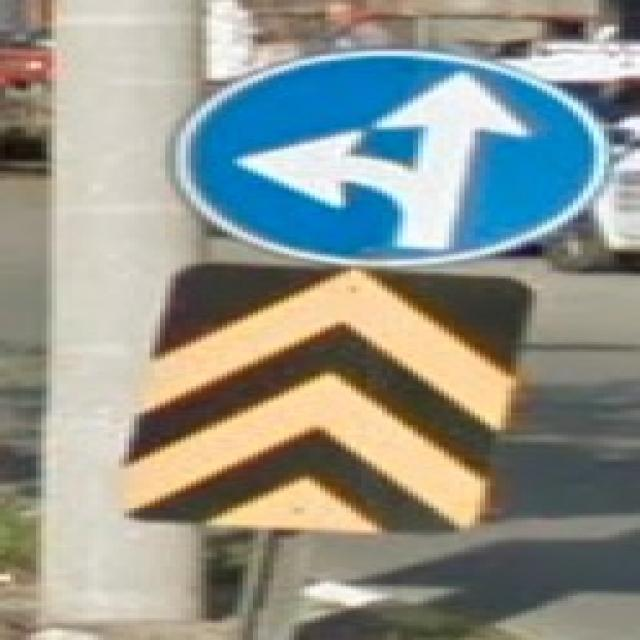Straight or Left: (169, 51, 597, 266)
